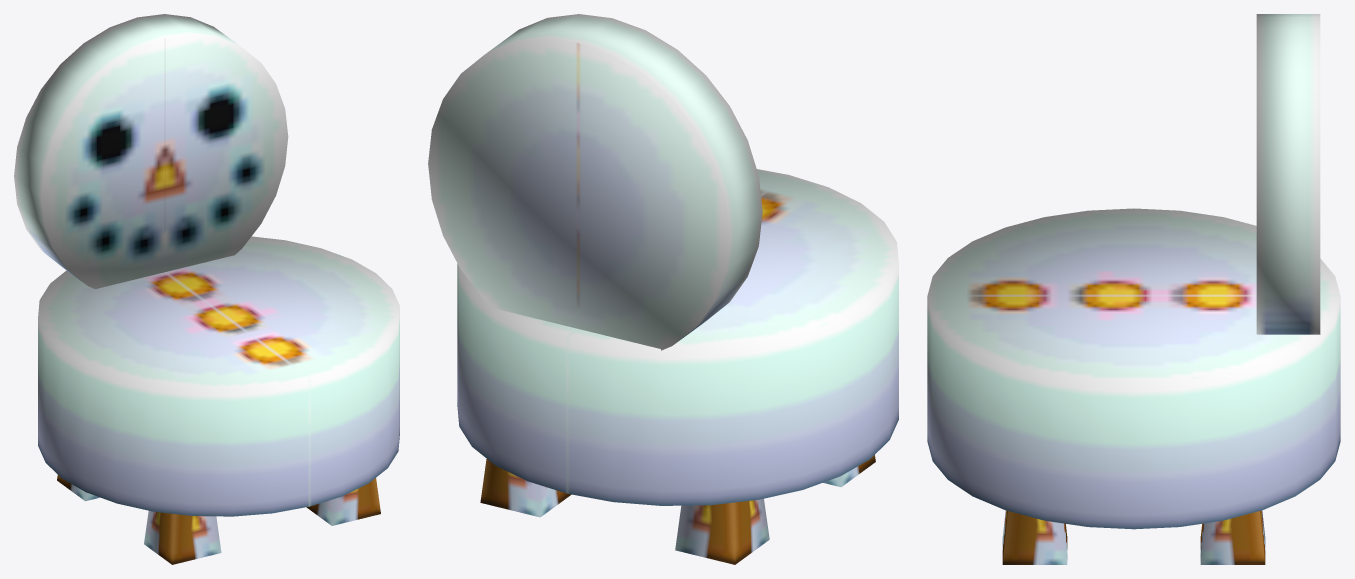
Rendered from int_snw_chairS.dae.
3 renders of one model, left to right at view 1: azimuth 30°, elevation 25°; view 2: azimuth 150°, elevation 25°; view 3: azimuth 270°, elevation 25°, orthographic. The views are drawn at different scales.
Visible parts, largest first — view 1: int_snw_chairS; view 2: int_snw_chairS; view 3: int_snw_chairS.
Boxes of the visible parts, x1=… form: int_snw_chairS: x1=14, y1=14, x2=399, y2=564; int_snw_chairS: x1=428, y1=14, x2=898, y2=564; int_snw_chairS: x1=927, y1=14, x2=1340, y2=564.
Size of the model in its own units: 28.34 by 36.18 by 28.34.
1 material, 1 textured.
